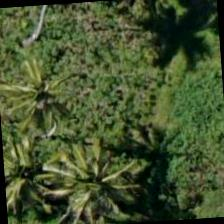Kelapa_Sawit: (0, 44, 96, 141), (42, 138, 139, 223), (1, 122, 71, 216)
